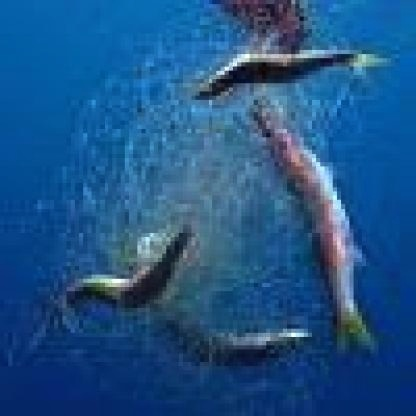net: (124, 58, 328, 300)
